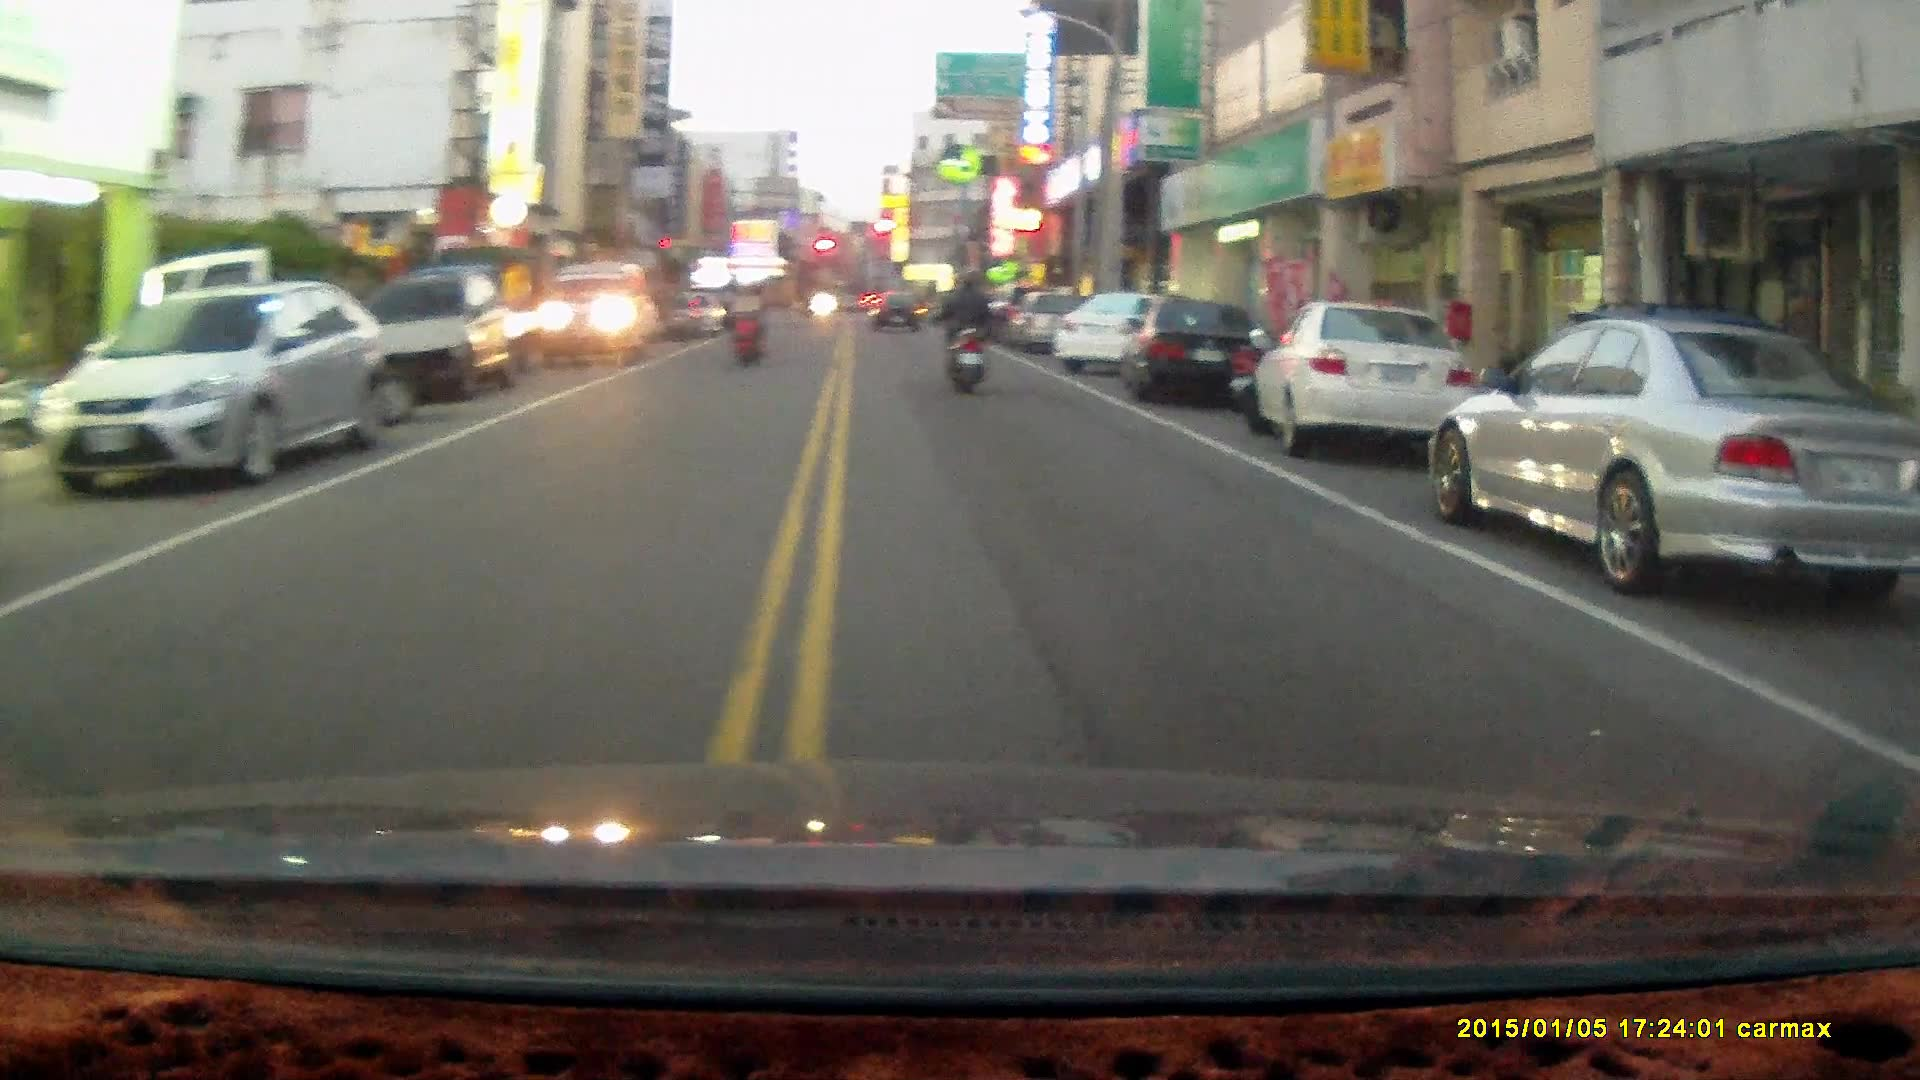rider: (937, 269, 989, 394), (729, 282, 766, 367)
vehicle: (1436, 313, 1914, 599), (44, 282, 386, 491), (1239, 300, 1481, 454), (362, 270, 509, 406), (1124, 293, 1265, 406), (537, 258, 654, 368), (1050, 288, 1186, 375)
